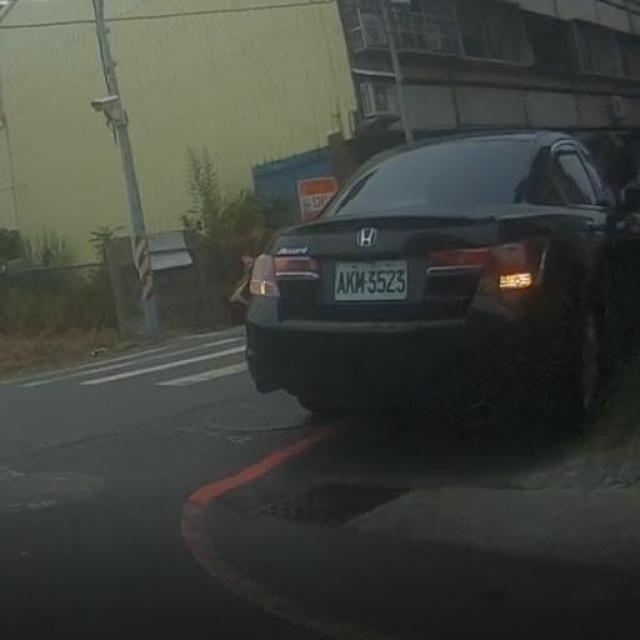illegalparking: (217, 88, 622, 462)
